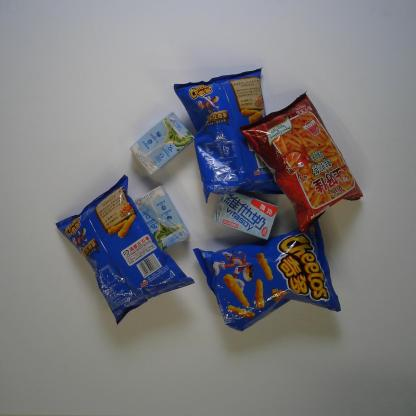Milk: (126, 113, 197, 177), (127, 185, 190, 254), (209, 187, 279, 243)
Puffed Food: (53, 172, 196, 328), (239, 87, 364, 235), (191, 213, 343, 332), (171, 65, 287, 204)
